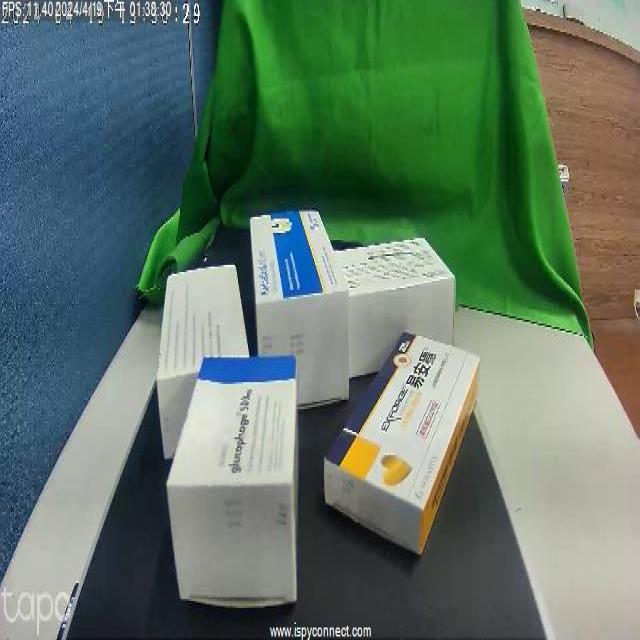box: (170, 352, 292, 597), (347, 350, 470, 532), (160, 254, 248, 430), (250, 210, 334, 380), (337, 242, 439, 381)
